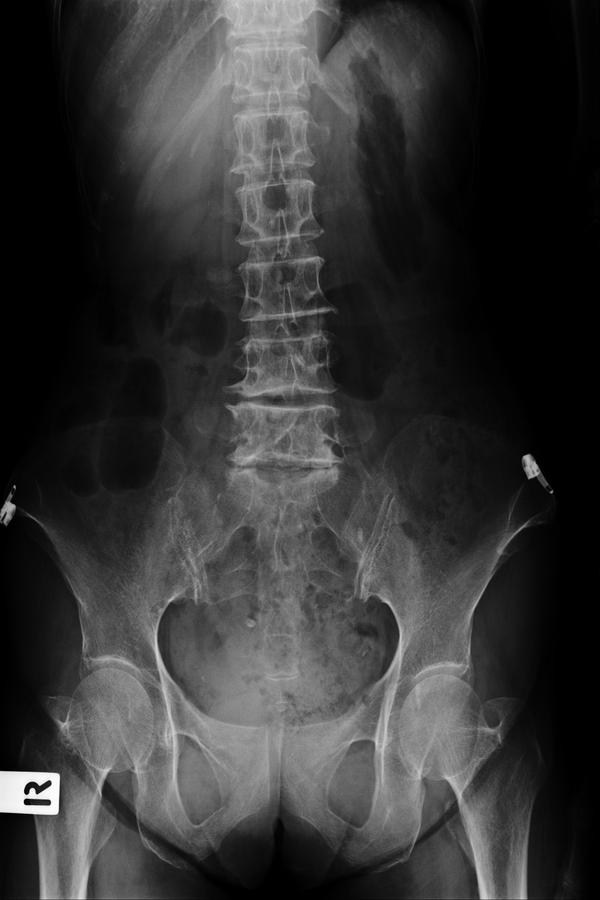lumbar scoliosis: (223, 152, 342, 488)
